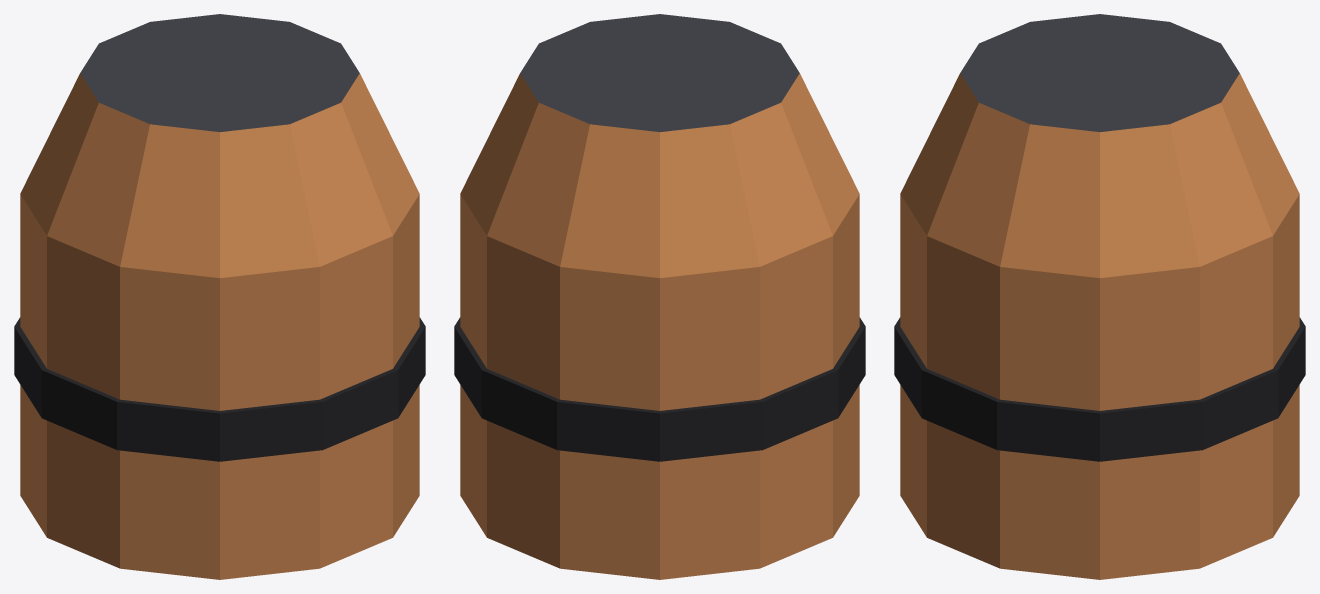
The model's file is Rec_Parachute_S.fbx.
3 renders of one model, left to right at view 1: azimuth 30°, elevation 25°; view 2: azimuth 150°, elevation 25°; view 3: azimuth 270°, elevation 25°, orthographic.
Parts seen in each view (by area): view 1: Rec_Parachute_S; view 2: Rec_Parachute_S; view 3: Rec_Parachute_S.
Boxes of the visible parts, box(x1,y1,x2,y2) form: Rec_Parachute_S: box(14, 14, 425, 579); Rec_Parachute_S: box(454, 14, 865, 579); Rec_Parachute_S: box(894, 14, 1305, 579).
Bounding box in the file's own units: 0.618 × 0.7 × 0.618.
1 material, 1 textured.
